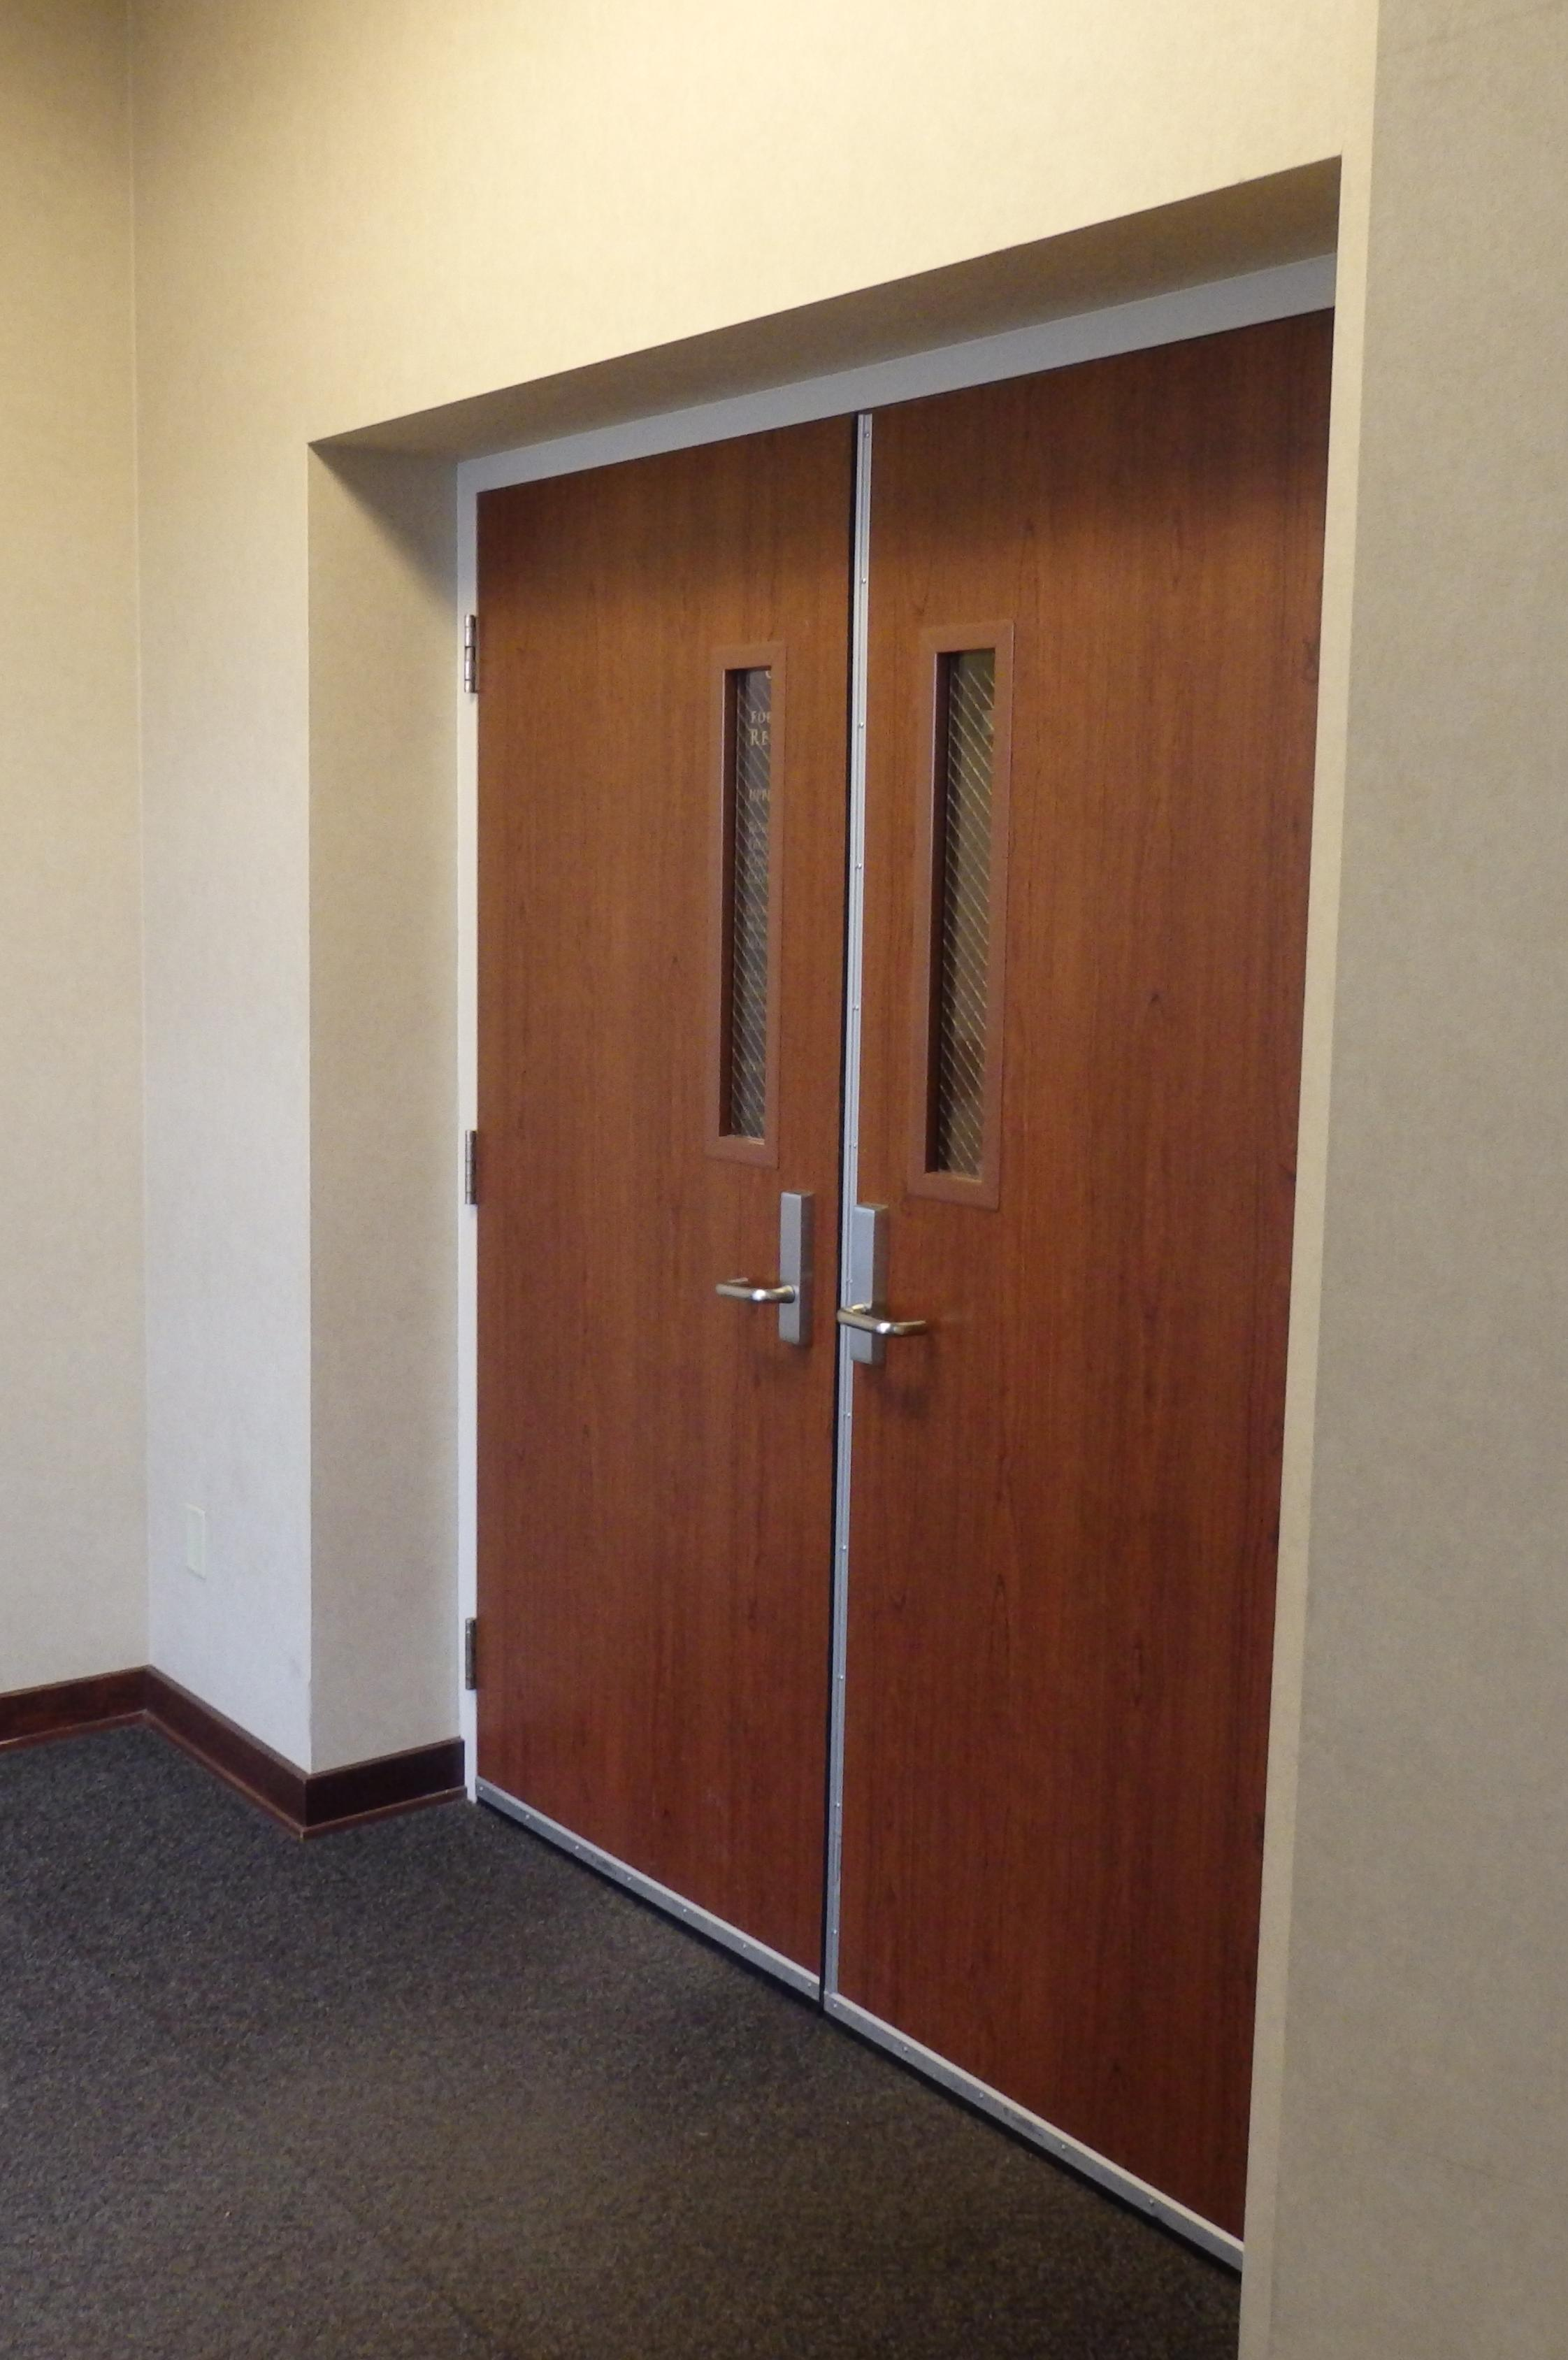door: (408, 282, 1342, 2185)
